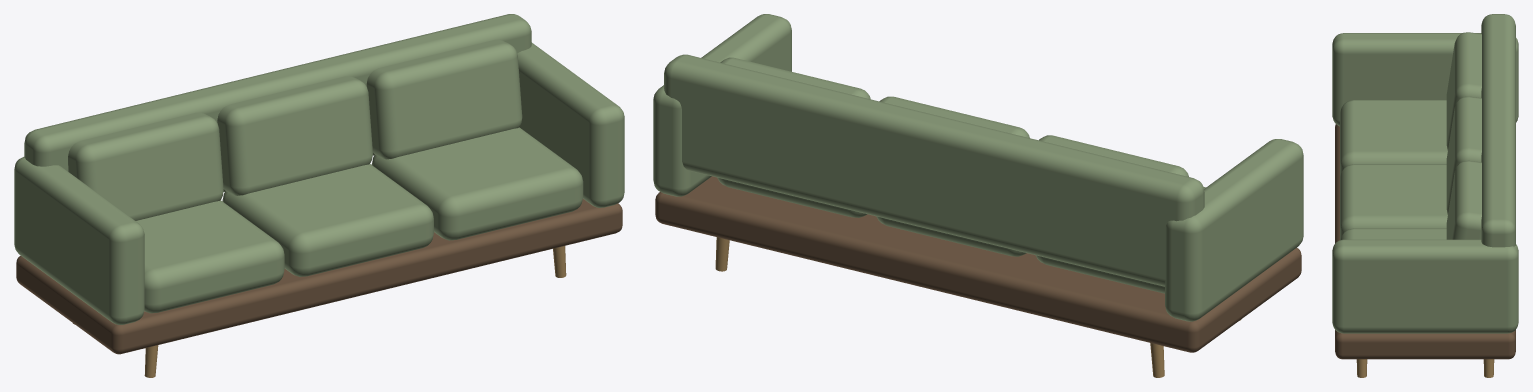
Rendered from loungedesignsofa.glb.
The picture shows the model from 3 angles, left to right: view 1: azimuth 30°, elevation 25°; view 2: azimuth 150°, elevation 25°; view 3: azimuth 270°, elevation 25°; orthographic projection. The views are drawn at different scales.
Parts seen in each view (by area): view 1: atelier-warm-loungedesignsofa; view 2: atelier-warm-loungedesignsofa; view 3: atelier-warm-loungedesignsofa.
Part boxes in pixels (x1=…): atelier-warm-loungedesignsofa: x1=14, y1=14, x2=624, y2=377; atelier-warm-loungedesignsofa: x1=653, y1=14, x2=1303, y2=377; atelier-warm-loungedesignsofa: x1=1332, y1=14, x2=1518, y2=377.
Size of the model in its own units: 2.77 by 0.9997 by 0.988.
